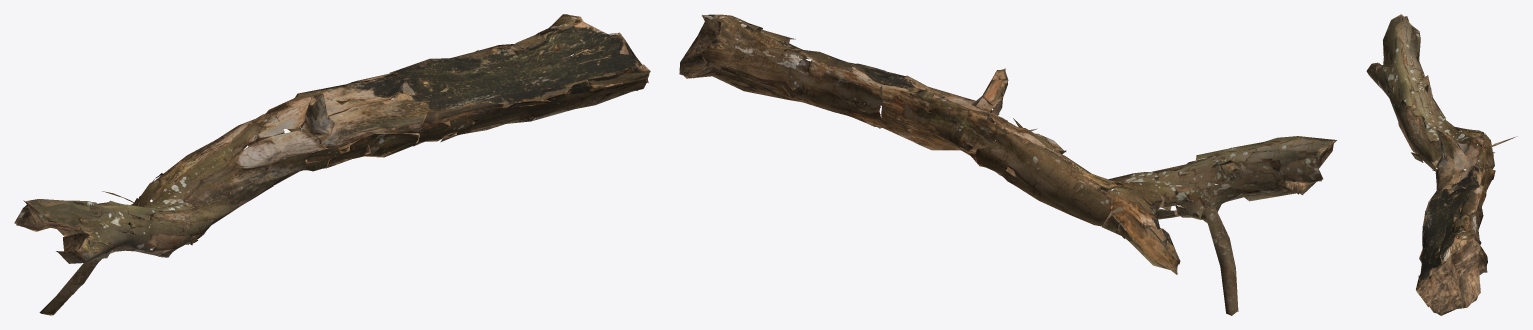
Rendered from dead_trunk.glb.
3 views of the same model, side by side, from view 1: azimuth 30°, elevation 25°; view 2: azimuth 150°, elevation 25°; view 3: azimuth 270°, elevation 25° (orthographic). The views are drawn at different scales.
Visible parts, largest first — view 1: dead_trunk; view 2: dead_trunk; view 3: dead_trunk.
Boxes of the visible parts, x1,y1,x2,y2 form: dead_trunk: (14, 14, 650, 315); dead_trunk: (679, 14, 1336, 315); dead_trunk: (1366, 14, 1517, 315).
Bounding box in the file's own units: 4.04 × 1.04 × 1.03.
1 material, 1 textured.
